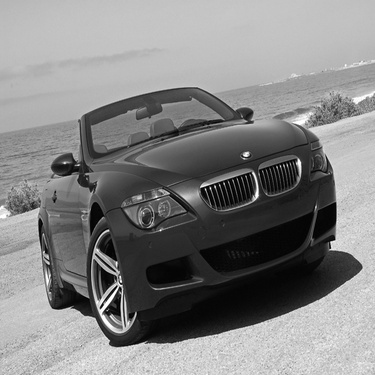car: (28, 79, 341, 347)
